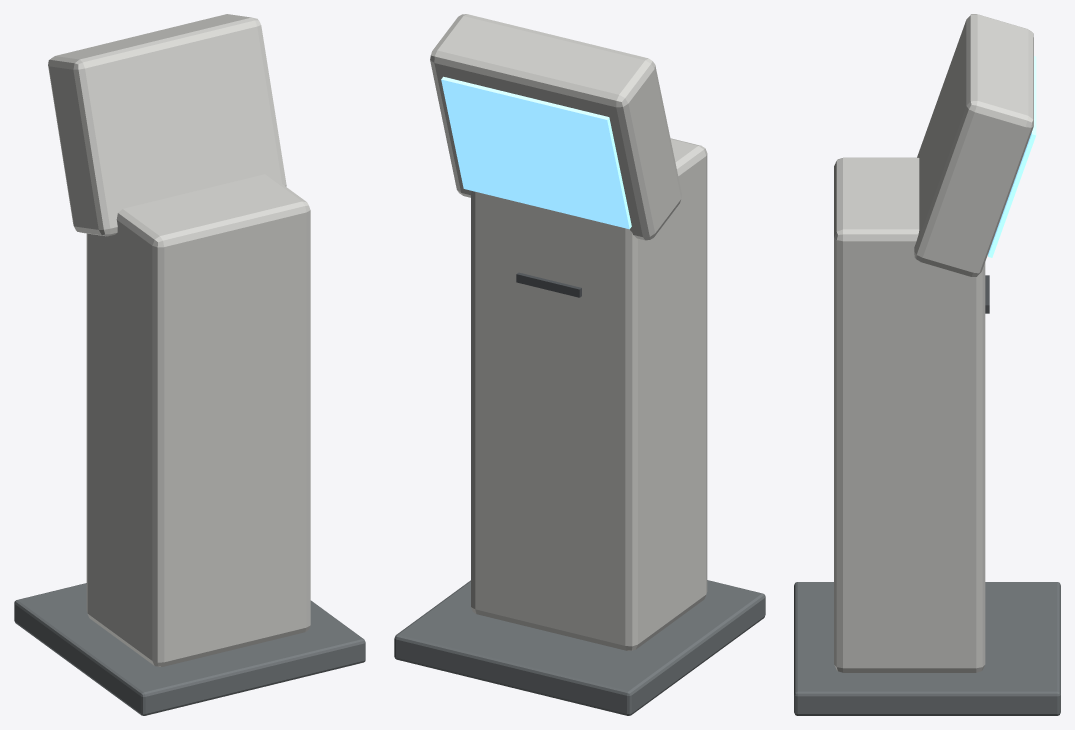
The model's file is self_service_kiosk.glb.
3 renders of one model, left to right at view 1: azimuth 30°, elevation 25°; view 2: azimuth 150°, elevation 25°; view 3: azimuth 270°, elevation 25°, orthographic. The views are drawn at different scales.
Visible parts, largest first — view 1: self_service_kiosk; view 2: self_service_kiosk; view 3: self_service_kiosk.
Boxes of the visible parts, x1,y1,x2,y2 form: self_service_kiosk: [14, 14, 365, 715]; self_service_kiosk: [394, 14, 765, 715]; self_service_kiosk: [794, 14, 1060, 715].
Size of the model in its own units: 0.6 by 1.5 by 0.6.
